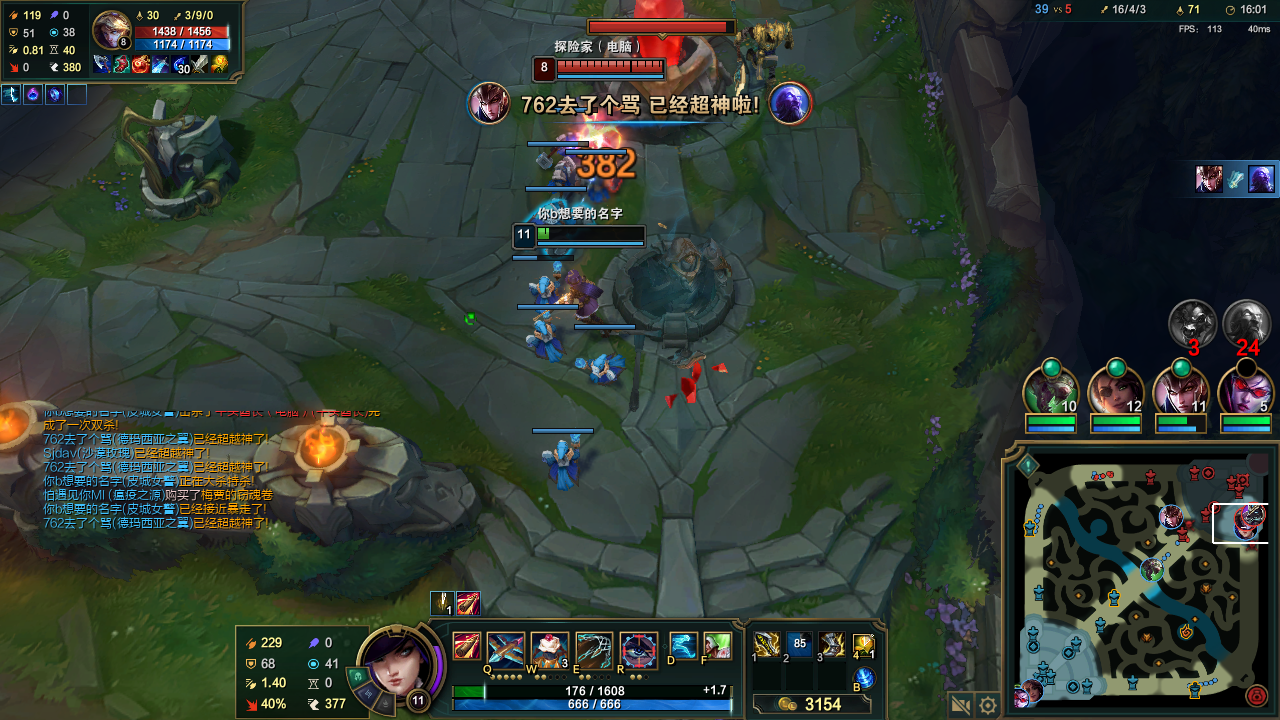DFSJ: (578, 13, 751, 114)
DFYX: (551, 62, 662, 82)
WFXB: (576, 348, 638, 389), (531, 312, 563, 358), (544, 447, 584, 483), (526, 276, 561, 310), (542, 161, 576, 187)
